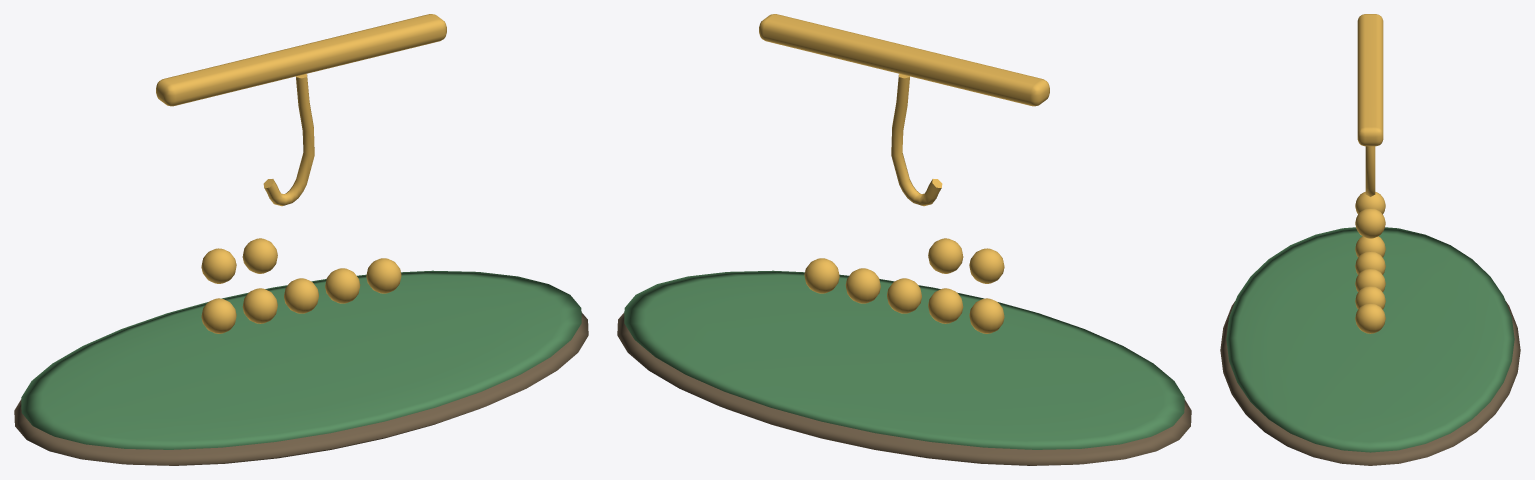
Rendered from seven.glb.
The picture shows the model from 3 angles, left to right: view 1: azimuth 30°, elevation 25°; view 2: azimuth 150°, elevation 25°; view 3: azimuth 270°, elevation 25°; orthographic projection. The views are drawn at different scales.
Parts seen in each view (by area): view 1: seven_surface_01, seven_surface_02, seven_surface_00; view 2: seven_surface_01, seven_surface_02, seven_surface_00; view 3: seven_surface_01, seven_surface_02, seven_surface_00.
Part boxes in pixels (x1,y1,x2,y2): seven_surface_01: [21, 270, 581, 449]; seven_surface_02: [156, 14, 446, 333]; seven_surface_00: [14, 312, 588, 465]; seven_surface_01: [624, 270, 1184, 449]; seven_surface_02: [759, 14, 1049, 333]; seven_surface_00: [617, 312, 1191, 465]; seven_surface_01: [1226, 227, 1514, 452]; seven_surface_02: [1355, 14, 1385, 333]; seven_surface_00: [1220, 301, 1520, 465].
Size of the model in its own units: 4.56 by 2.7 by 2.5.
